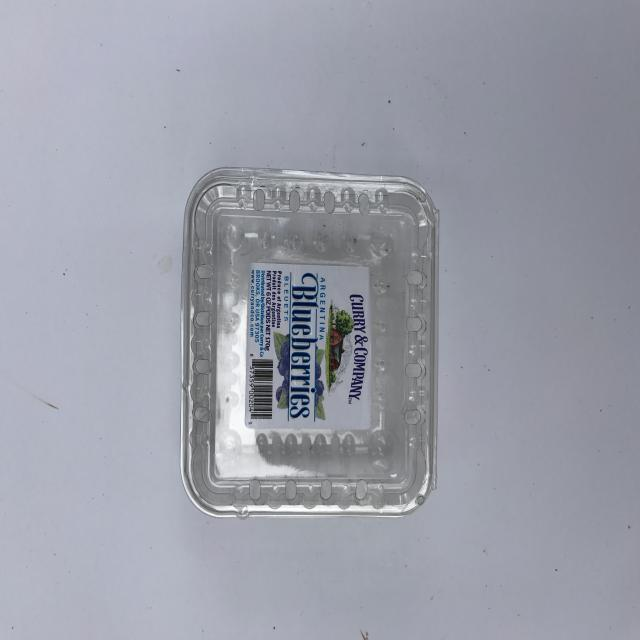plastic: (180, 167, 439, 518)
